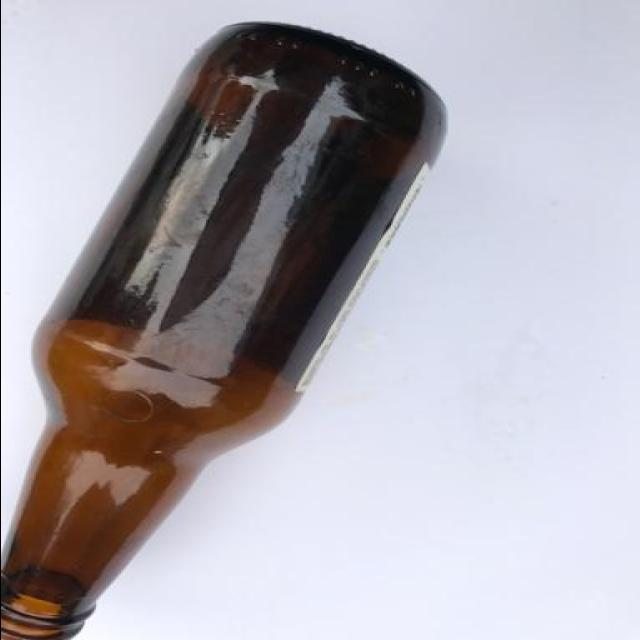glass: (0, 16, 453, 638)
